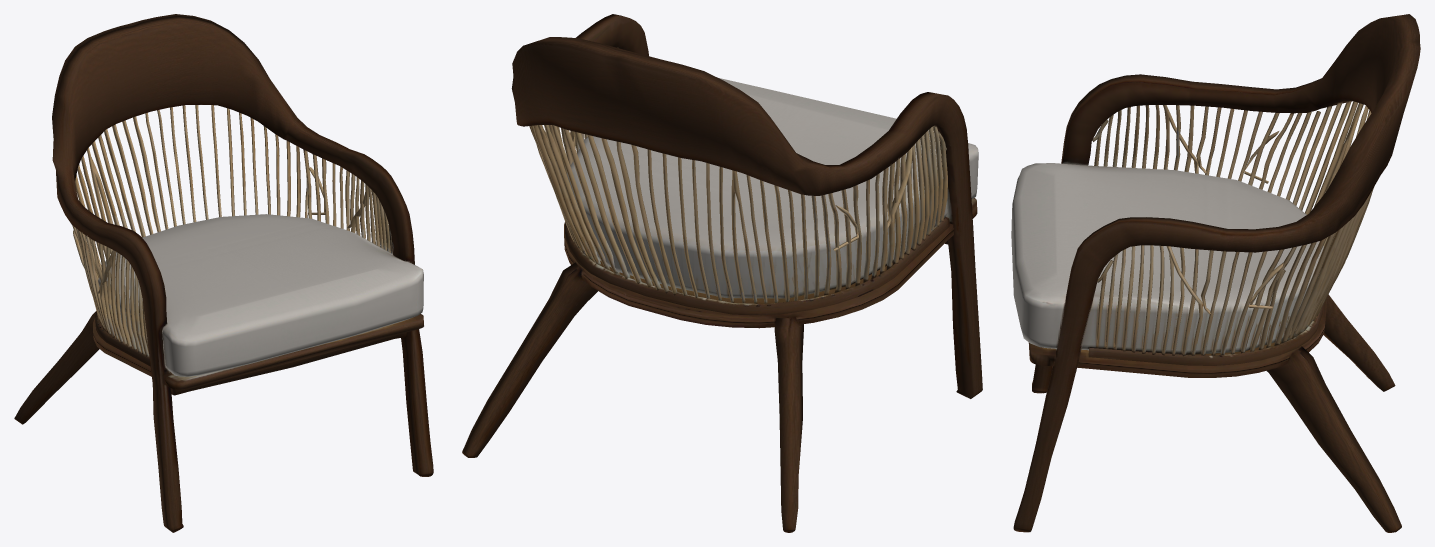
Rendered from meshopt-armchair.glb.
3 views of the same model, side by side, from view 1: azimuth 30°, elevation 25°; view 2: azimuth 150°, elevation 25°; view 3: azimuth 270°, elevation 25° (orthographic). The views are drawn at different scales.
Visible parts, largest first — view 1: tripo_node_7fe1bb1e-de85-4ae9-aff7-4b09d08780e7; view 2: tripo_node_7fe1bb1e-de85-4ae9-aff7-4b09d08780e7; view 3: tripo_node_7fe1bb1e-de85-4ae9-aff7-4b09d08780e7.
Boxes of the visible parts, x1,y1,x2,y2 form: tripo_node_7fe1bb1e-de85-4ae9-aff7-4b09d08780e7: (14,14,433,532); tripo_node_7fe1bb1e-de85-4ae9-aff7-4b09d08780e7: (462,14,982,532); tripo_node_7fe1bb1e-de85-4ae9-aff7-4b09d08780e7: (1011,14,1420,532).
Size of the model in its own units: 0.7934 by 0.9995 by 0.8853.
1 material, 1 textured.
